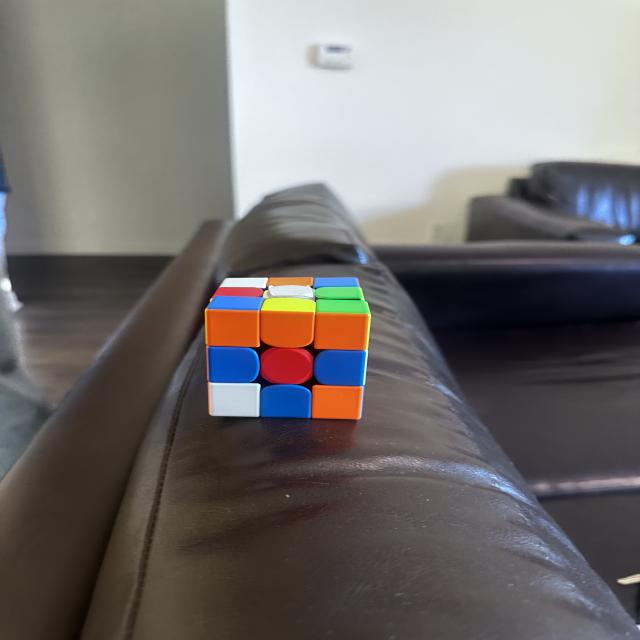sticker: (204, 295, 266, 349), (258, 298, 317, 350), (313, 301, 372, 352), (258, 346, 316, 387), (312, 348, 368, 388), (207, 346, 261, 385), (208, 381, 262, 418), (310, 384, 365, 420), (260, 384, 313, 419), (315, 298, 369, 316), (206, 295, 265, 311), (210, 286, 264, 300), (314, 286, 364, 301), (218, 277, 268, 291), (312, 277, 361, 289), (266, 277, 313, 287)
